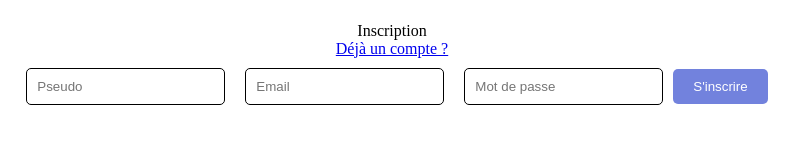
Test case: Register component › displays an error message if the server returns an error
Click the button.
click(720, 86)  # box top-left (673, 68), bottom-right (768, 104)
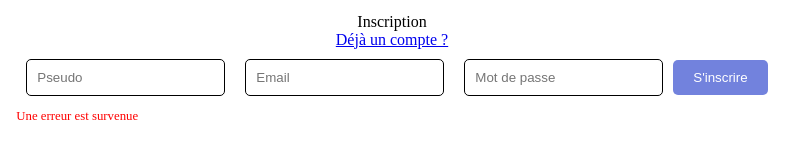
Result: the text "Une erreur est survenue" is shown at top-left (16, 108), bottom-right (138, 122)
